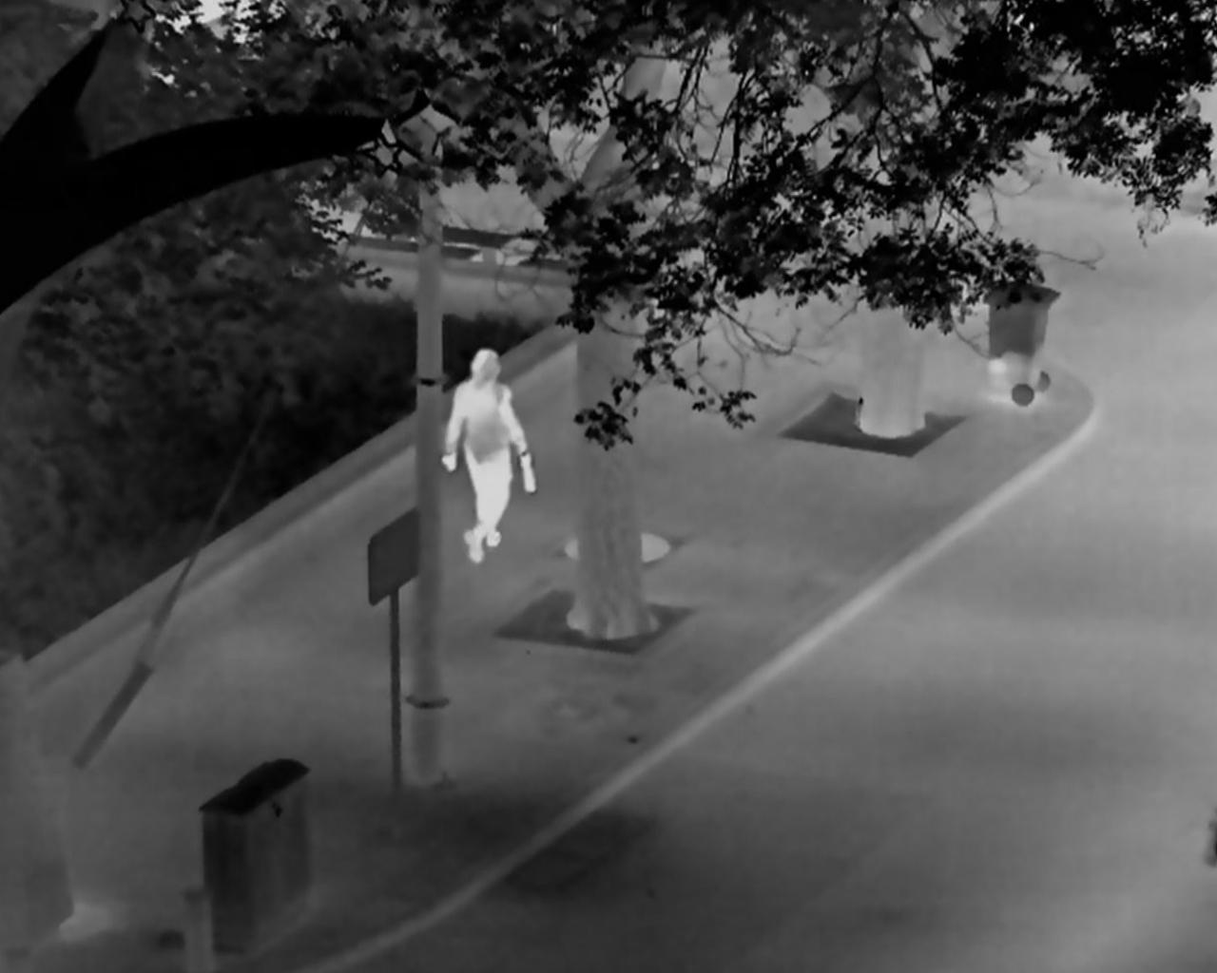person: (442, 347, 538, 563)
